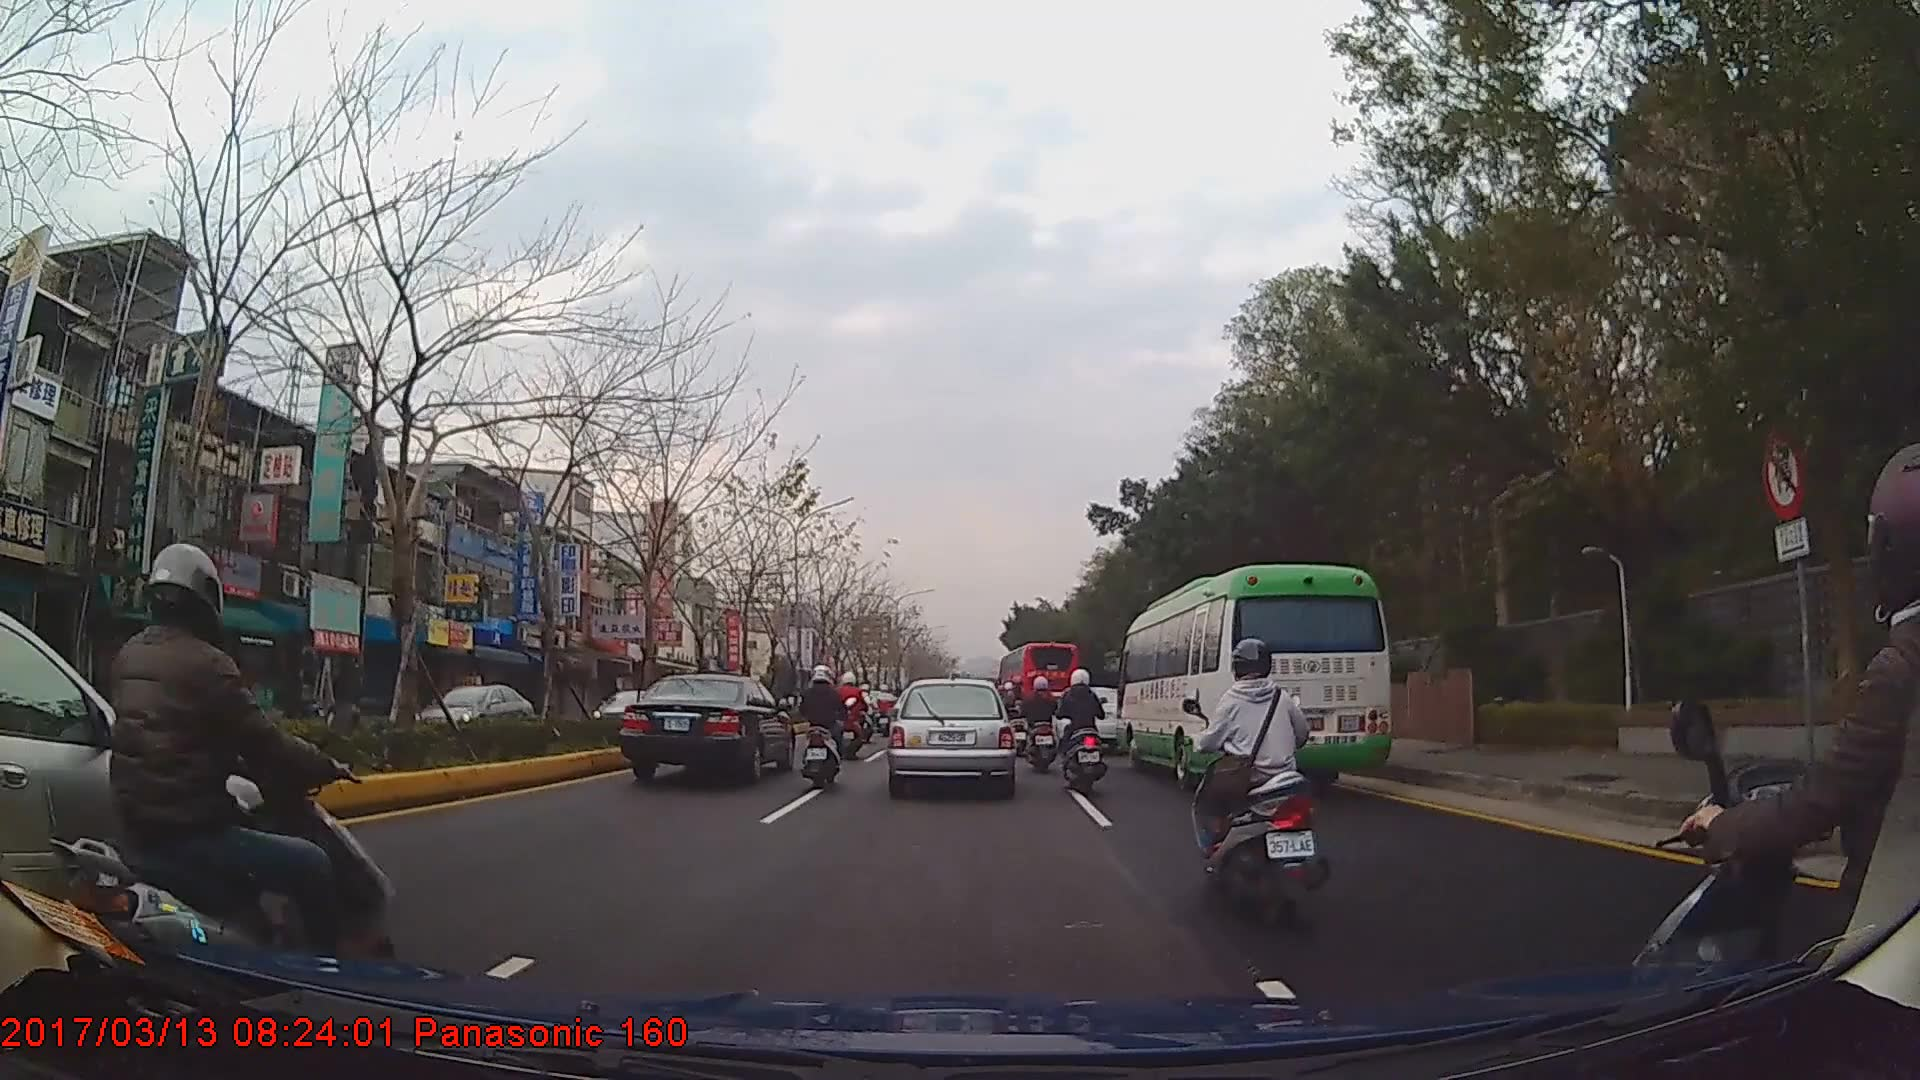rider: (1633, 441, 1920, 1080), (45, 519, 391, 1019), (1189, 639, 1329, 925), (799, 666, 852, 794), (1058, 669, 1108, 794), (1023, 674, 1062, 774), (836, 672, 870, 759), (1006, 676, 1030, 756), (855, 687, 881, 743), (876, 683, 898, 727)
vehicle: (1116, 563, 1393, 796), (614, 672, 796, 784), (887, 676, 1014, 797), (414, 682, 532, 750), (997, 640, 1081, 735)
